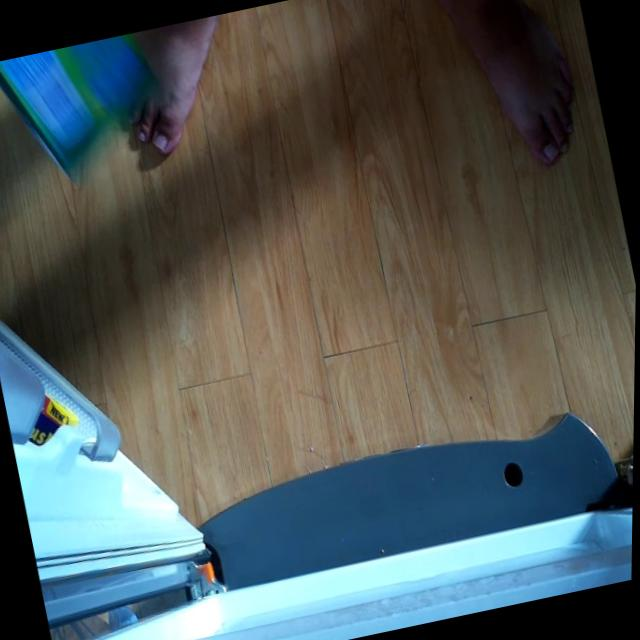milk: (0, 20, 221, 200)
